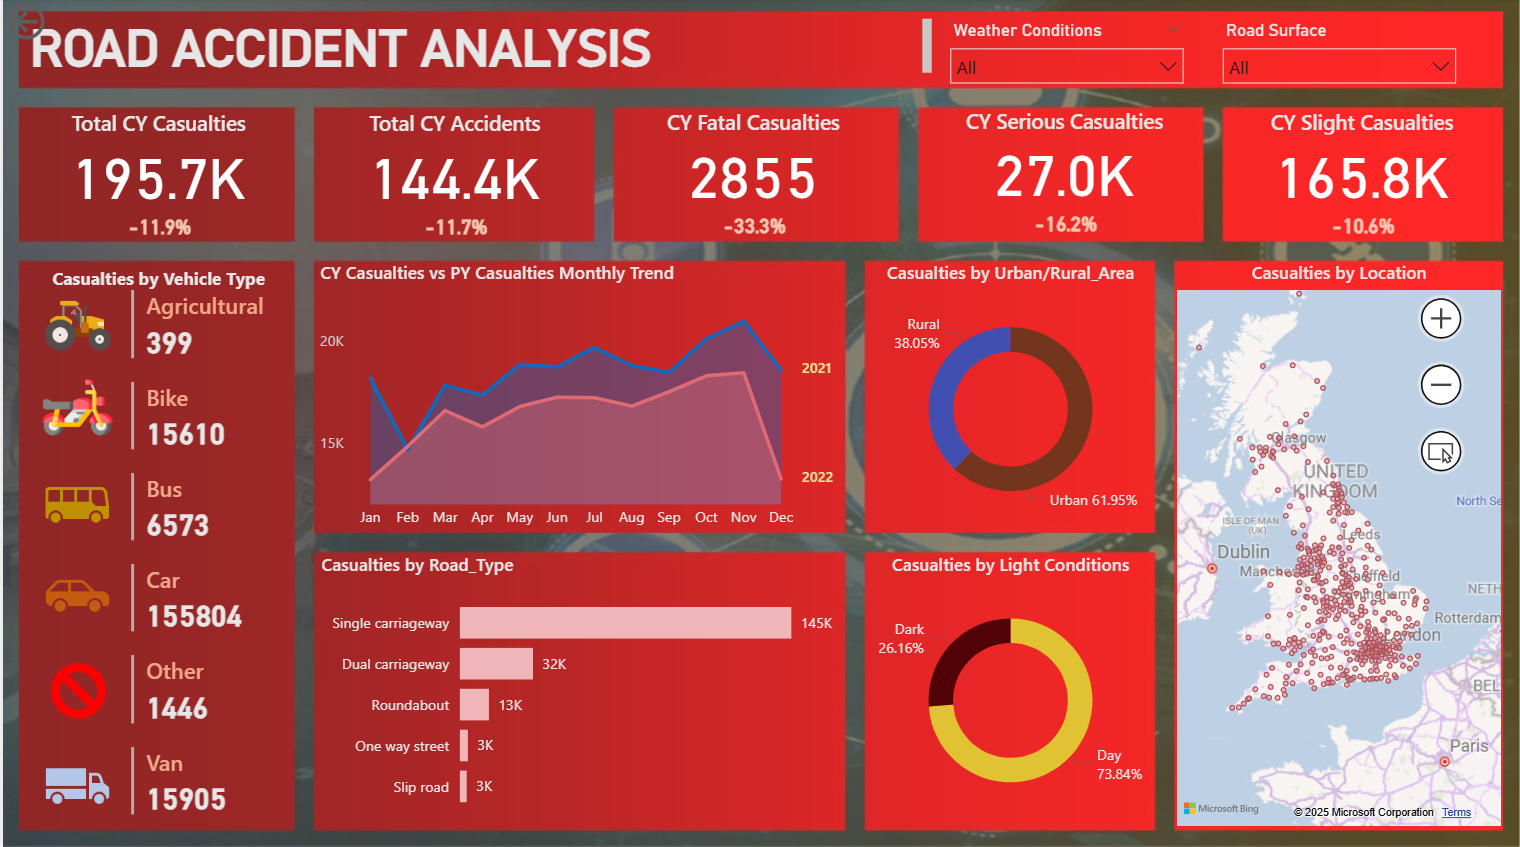

What the dashboard file says about the page in this screenshot:
{"tool":"powerbi","page":{"name":"Page 1","canvas":[1280,720],"ordinal":0},"visuals":[{"type":"card","title":"CY Serious Casualties","fields":{"Values":["Data.CY Casualties"]},"box":[775,92,241,84],"z":0,"group":"g4"},{"type":"card","title":"CY Slight Casualties","fields":{"Values":["Data.CY Casualties"]},"box":[1026.2,92.5,241,84],"z":0,"group":"g5"},{"type":"card","title":"CY Fatal Casualties","fields":{"Values":["Data.CY Casualties"]},"box":[513,93,241,84],"z":0,"group":"g3"},{"type":"group","id":"g1","title":"Group 1","box":[16,94,232,133],"z":0},{"type":"card","title":"Total CY Casualties","fields":{"Values":["Data.CY Casualties"]},"box":[16,94,231,84],"z":0,"group":"g1"},{"type":"card","title":"Total CY Accidents","fields":{"Values":["Data.CY Accidents"]},"box":[266,94,231,84],"z":0,"group":"g2"},{"type":"multiRowCard","fields":{"Values":["Data.Vehicle_Type (groups)","Data.CY Casualties"]},"box":[103.7,241.2,143.8,478.8],"z":0,"group":"g6"},{"type":"group","id":"g2","title":"Group 1","box":[266,94,232,133],"z":1000},{"type":"card","fields":{"Values":["Data.YoY Casualties"]},"box":[776,158,241,67],"z":1000,"group":"g4"},{"type":"card","fields":{"Values":["Data.YoY Casualties"]},"box":[1027.2,158.5,241,67],"z":1000,"group":"g5"},{"type":"card","fields":{"Values":["Data.YoY Casualties"]},"box":[514,159,241,67],"z":1000,"group":"g3"},{"type":"card","fields":{"Values":["Data.YoY Casualties"]},"box":[17,160,231,67],"z":1000,"group":"g1"},{"type":"card","fields":{"Values":["Data.YoY Accidents"]},"box":[267,160,231,67],"z":1000,"group":"g2"},{"type":"image","box":[16.2,241.2,93.8,69.1],"z":1000,"group":"g6"},{"type":"group","id":"g3","title":"Group 1","box":[513,93,242,133],"z":2000},{"type":"image","box":[16.2,310.3,93.8,69.1],"z":2000,"group":"g6"},{"type":"group","id":"g4","title":"Group 1","box":[775,92,242,133],"z":3000},{"type":"image","box":[16.2,393.2,93.8,67.9],"z":3000,"group":"g6"},{"type":"group","id":"g5","title":"Group 1","box":[1026.2,92.5,242.5,132.5],"z":4000},{"type":"image","box":[17.4,469.9,92.5,67.9],"z":4000,"group":"g6"},{"type":"textbox","box":[17.4,12.8,770.9,57],"z":5000},{"type":"image","box":[17.4,550.3,93.8,67.9],"z":5000,"group":"g6"},{"type":"textbox","box":[16.2,221.2,231.2,40],"z":6000},{"type":"image","box":[17.4,630.7,92.5,67.9],"z":6000,"group":"g6"},{"type":"group","id":"g6","title":"Group 2","box":[16.2,241.2,231.2,478.8],"z":7000},{"type":"areaChart","title":"CY Casualties vs PY Casualties Monthly Trend","fields":{"Category":["Calendar.Month"],"Y":["Sum(Data.Number_of_Casualties)"],"Series":["Calendar.Date.Variation.Date Hierarchy.Year"]},"box":[262.5,221.2,446.2,235],"z":8000},{"type":"donutChart","title":"Casualties by Urban/Rural_Area","fields":{"Category":["Data.Urban_or_Rural_Area"],"Y":["Data.CY Casualties"]},"box":[727.5,221.2,245,231.2],"z":9000},{"type":"donutChart","title":"Casualties by Light Conditions","fields":{"Y":["Data.CY Casualties"],"Category":["Data.Light_Conditions (groups)"]},"box":[727.5,467.5,245,231.2],"z":10000},{"type":"barChart","title":"Casualties by Road_Type","fields":{"Category":["Data.Road_Type"],"Y":["Data.CY Casualties"]},"box":[263.8,467.5,448,231.2],"z":11000},{"type":"map","title":"Casualties by Location","fields":{"Y":["Data.Latitude"],"X":["Data.Longitude"],"Category":["Data.Local_Authority_(District)"]},"box":[986,220.9,282.6,482],"z":12000},{"type":"slicer","fields":{"Values":["Data.Weather_Conditions (groups)"]},"box":[788.4,14,217.4,66.3],"z":13000},{"type":"actionButton","box":[0,0,100,40],"z":14000},{"type":"slicer","fields":{"Values":["Data.Road_Surface_Conditions (groups)"]},"box":[1018.6,14,217.4,66.3],"z":15000}]}

Visuals, with their boxes in screenshot pixels (x1, y1, x2, y2), scaled from the page's 1280x720 canvas onto the 1520x847 screenshot:
"CY Serious Casualties" card: locate(920, 108, 1206, 207)
"CY Slight Casualties" card: locate(1219, 109, 1505, 208)
"CY Fatal Casualties" card: locate(609, 109, 895, 208)
"Group 1" group: locate(19, 111, 294, 267)
"Total CY Casualties" card: locate(19, 111, 293, 209)
"Total CY Accidents" card: locate(316, 111, 590, 209)
multiRowCard - Data.Vehicle_Type (groups) x Data.CY Casualties: locate(123, 284, 294, 846)
"Group 1" group: locate(316, 111, 591, 267)
card - Data.YoY Casualties: locate(922, 186, 1208, 265)
card - Data.YoY Casualties: locate(1220, 186, 1506, 265)
card - Data.YoY Casualties: locate(610, 187, 897, 266)
card - Data.YoY Casualties: locate(20, 188, 294, 267)
card - Data.YoY Accidents: locate(317, 188, 591, 267)
image: locate(19, 284, 131, 365)
"Group 1" group: locate(609, 109, 897, 266)
image: locate(19, 365, 131, 446)
"Group 1" group: locate(920, 108, 1208, 265)
image: locate(19, 463, 131, 542)
"Group 1" group: locate(1219, 109, 1507, 265)
image: locate(21, 553, 131, 633)
textbox: locate(21, 15, 936, 82)
image: locate(21, 647, 132, 727)
textbox: locate(19, 260, 294, 307)
image: locate(21, 742, 131, 822)
"Group 2" group: locate(19, 284, 294, 846)
"CY Casualties vs PY Casualties Monthly Trend" areaChart: locate(312, 260, 842, 537)
"Casualties by Urban/Rural_Area" donutChart: locate(864, 260, 1155, 532)
"Casualties by Light Conditions" donutChart: locate(864, 550, 1155, 822)
"Casualties by Road_Type" barChart: locate(313, 550, 845, 822)
"Casualties by Location" map: locate(1171, 260, 1506, 827)
slicer - Data.Weather_Conditions (groups): locate(936, 16, 1194, 94)
actionButton: locate(0, 0, 119, 47)
slicer - Data.Road_Surface_Conditions (groups): locate(1210, 16, 1468, 94)
